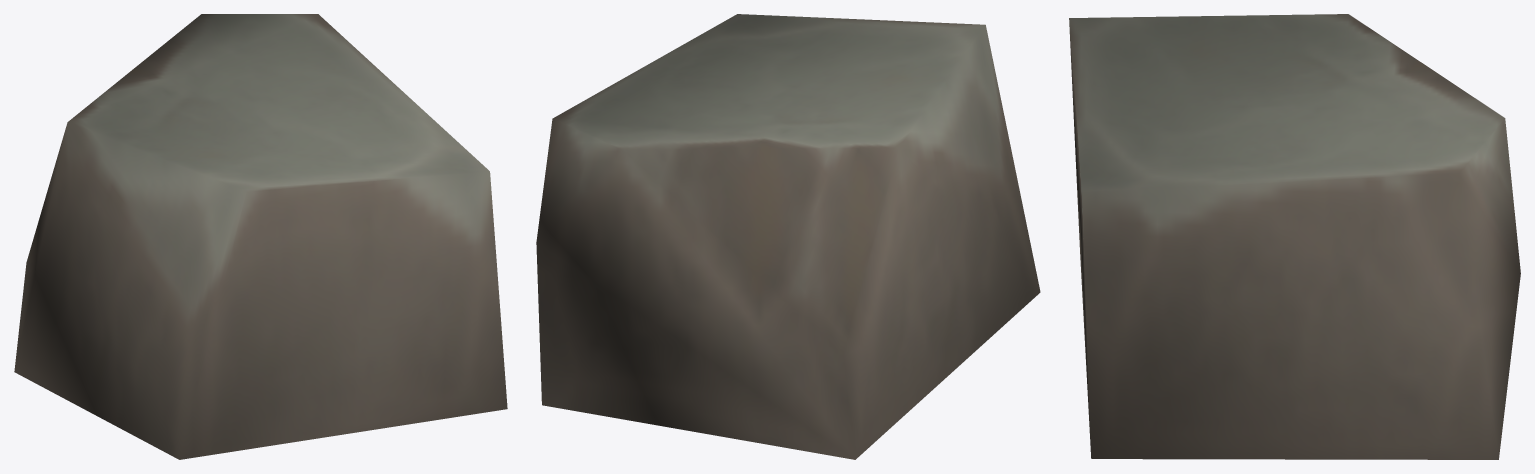
The model's file is SM_FW01_Floor_Debris_08.fbx.
3 views of the same model, side by side, from view 1: azimuth 30°, elevation 25°; view 2: azimuth 150°, elevation 25°; view 3: azimuth 270°, elevation 25° (orthographic). The views are drawn at different scales.
Visible parts, largest first — view 1: SM_FW01_Floor_Debris_08; view 2: SM_FW01_Floor_Debris_08; view 3: SM_FW01_Floor_Debris_08.
Part boxes in pixels (<box>): SM_FW01_Floor_Debris_08: <box>14,14,507,459</box>; SM_FW01_Floor_Debris_08: <box>536,14,1040,459</box>; SM_FW01_Floor_Debris_08: <box>1069,14,1520,459</box>.
Bounding box in the file's own units: 0.25 × 0.2169 × 0.2821.
